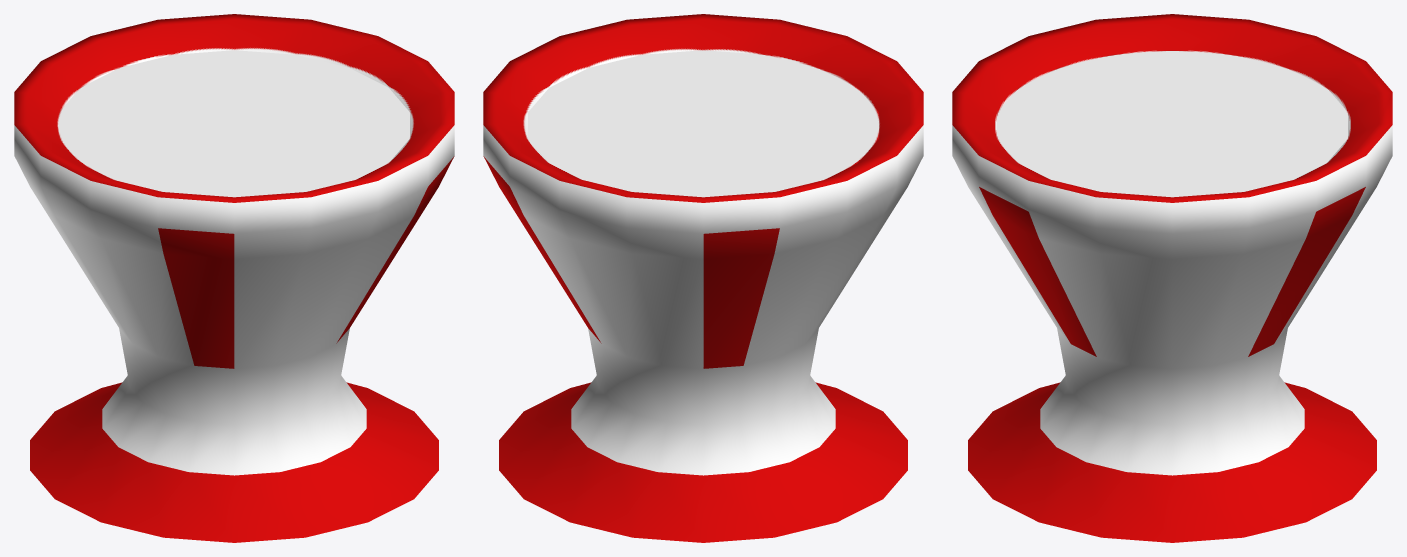
Rendered from Podium.FBX.
3 views of the same model, side by side, from view 1: azimuth 30°, elevation 25°; view 2: azimuth 150°, elevation 25°; view 3: azimuth 270°, elevation 25° (orthographic).
Visible parts, largest first — view 1: Podium; view 2: Podium; view 3: Podium.
Boxes of the visible parts, x1,y1,x2,y2 form: Podium: [14, 14, 454, 542]; Podium: [483, 14, 923, 542]; Podium: [952, 14, 1392, 542].
Size of the model in its own units: 2.74 by 2.7 by 2.34.
Materials: 1 (1 with a texture image).
